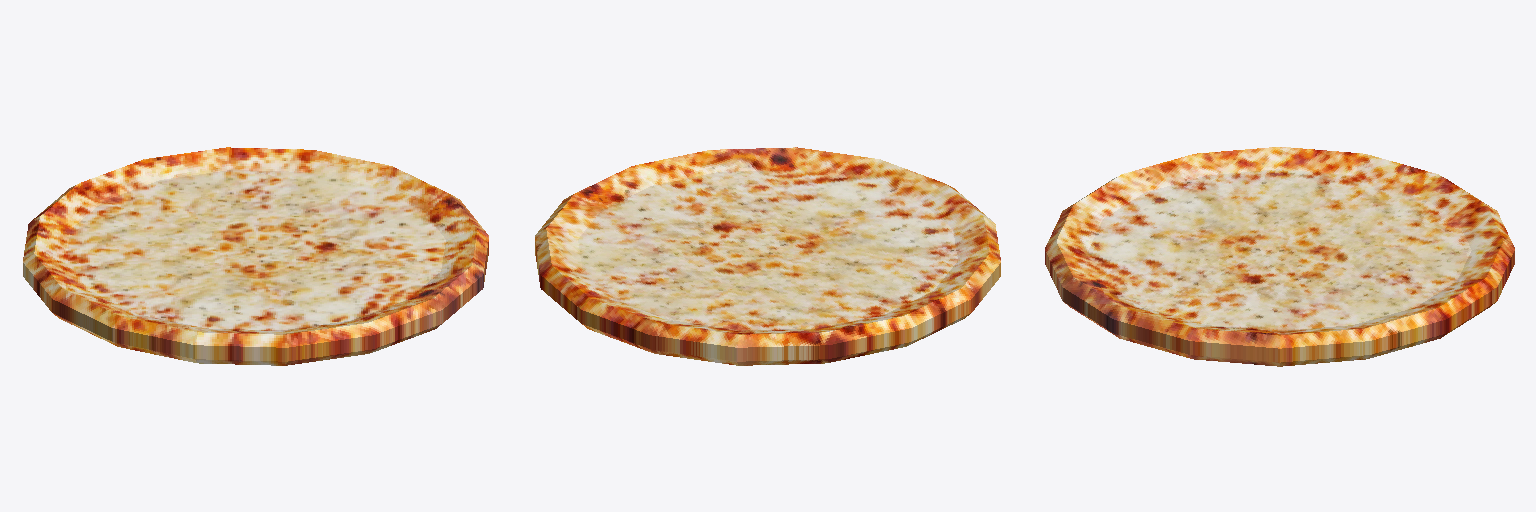
The picture shows the model from 3 angles: view 1: azimuth 30°, elevation 25°; view 2: azimuth 150°, elevation 25°; view 3: azimuth 270°, elevation 25°; orthographic projection.
Visible parts, largest first — view 1: PizzaQueso; view 2: PizzaQueso; view 3: PizzaQueso.
Part boxes in pixels (x1,y1,x2,y2): PizzaQueso: (23,147,488,365); PizzaQueso: (535,147,1000,365); PizzaQueso: (1045,147,1514,366).
Bounding box in the file's own units: 8.54 × 0.5972 × 8.54.
Materials: 1 (1 with a texture image).